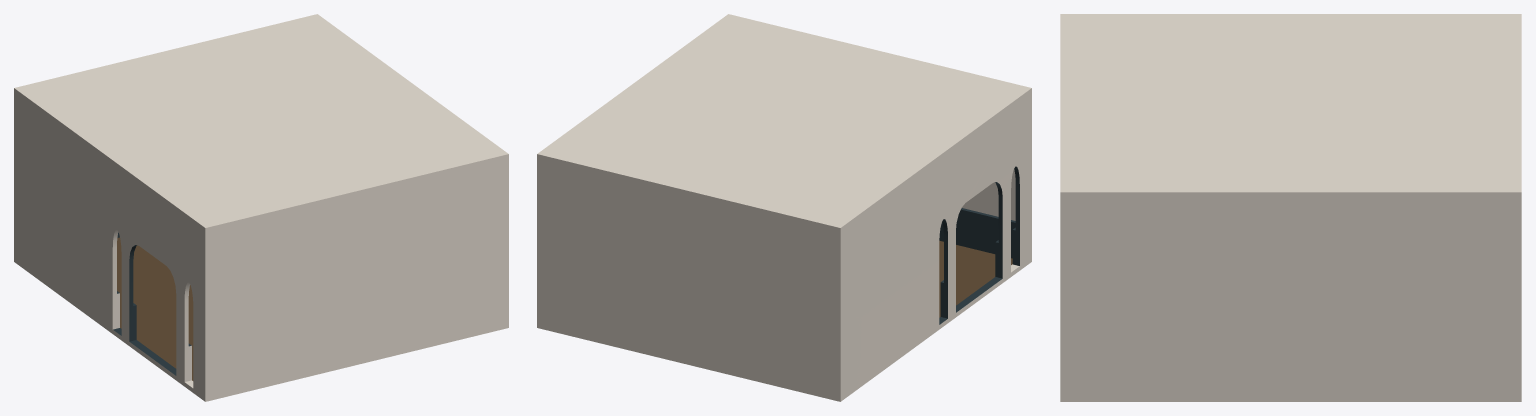
File: Quarto.fbx
3 renders of one model, left to right at view 1: azimuth 30°, elevation 25°; view 2: azimuth 150°, elevation 25°; view 3: azimuth 270°, elevation 25°, orthographic. The views are drawn at different scales.
Parts seen in each view (by area): view 1: Sala; view 2: Sala; view 3: Sala.
Boxes of the visible parts, x1,y1,x2,y2 form: Sala: [14, 14, 508, 401]; Sala: [537, 14, 1031, 401]; Sala: [1060, 14, 1521, 401].
Bounding box in the file's own units: 97.64 × 53.46 × 107.
